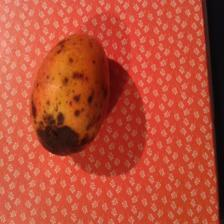Mango Semirotten: (26, 30, 113, 152)
